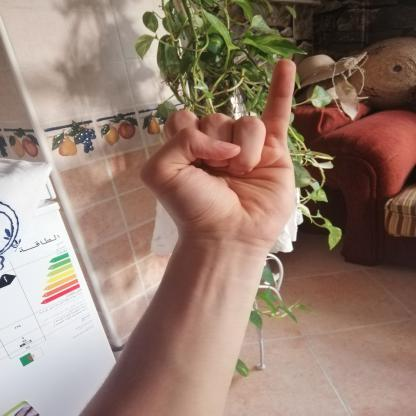MEEM: (129, 47, 316, 254)
